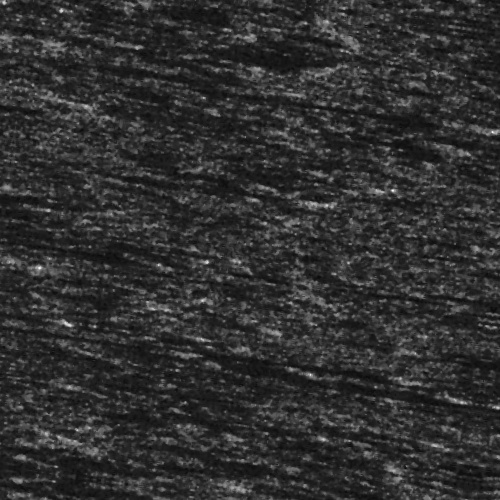object: (0, 113, 81, 136), (264, 187, 369, 196), (433, 118, 500, 131), (405, 91, 500, 100), (47, 343, 110, 350), (117, 314, 180, 319), (139, 356, 202, 361), (345, 166, 386, 171), (410, 354, 451, 359), (481, 367, 500, 374), (0, 0, 28, 2)
shadow: (218, 91, 457, 100), (335, 118, 500, 131), (74, 354, 431, 359), (133, 187, 316, 196), (303, 367, 500, 374), (0, 356, 171, 361), (19, 314, 148, 319), (243, 166, 365, 171), (0, 343, 78, 350), (0, 113, 23, 136), (451, 262, 500, 269), (463, 274, 500, 281), (433, 238, 500, 241)
